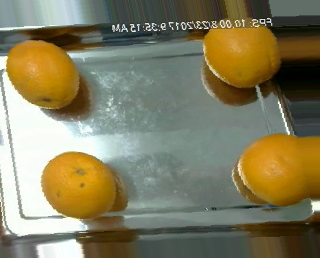Orange: (5, 40, 80, 109), (40, 150, 115, 218)
